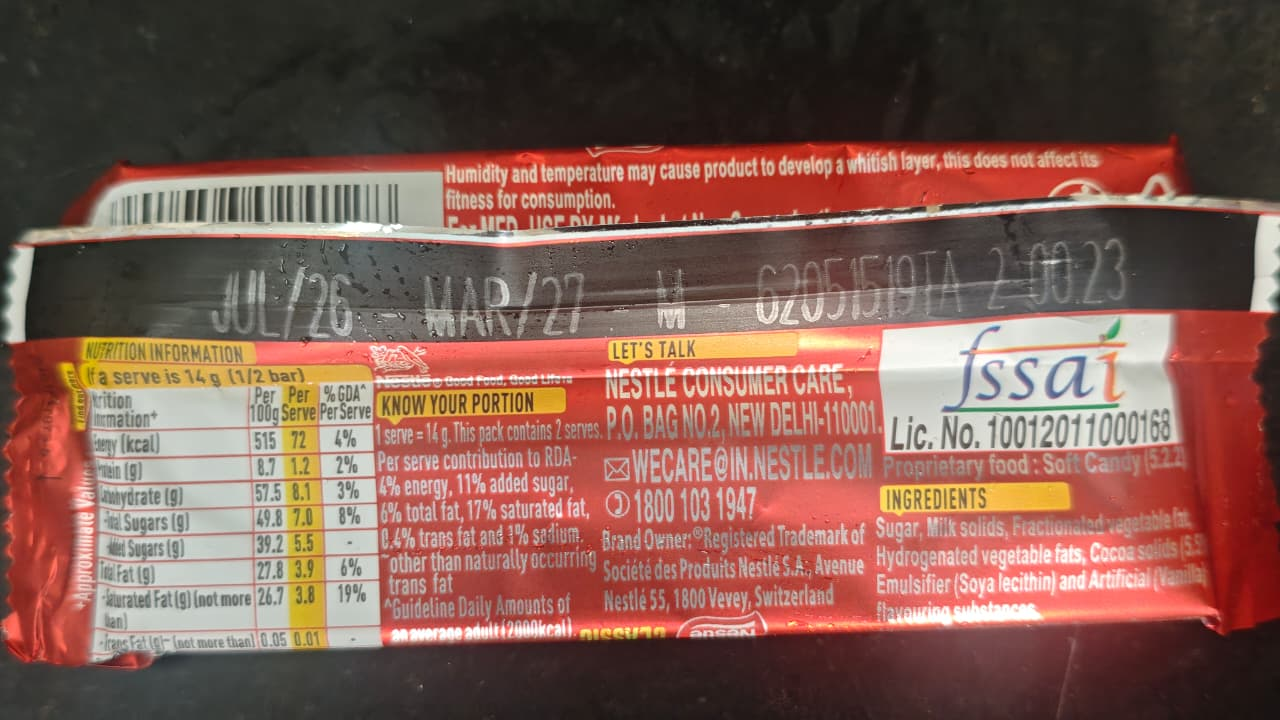EXP_Date: (416, 270, 602, 347)
Ingredients: (871, 484, 1208, 628)
MFG_Date: (199, 266, 378, 338)
